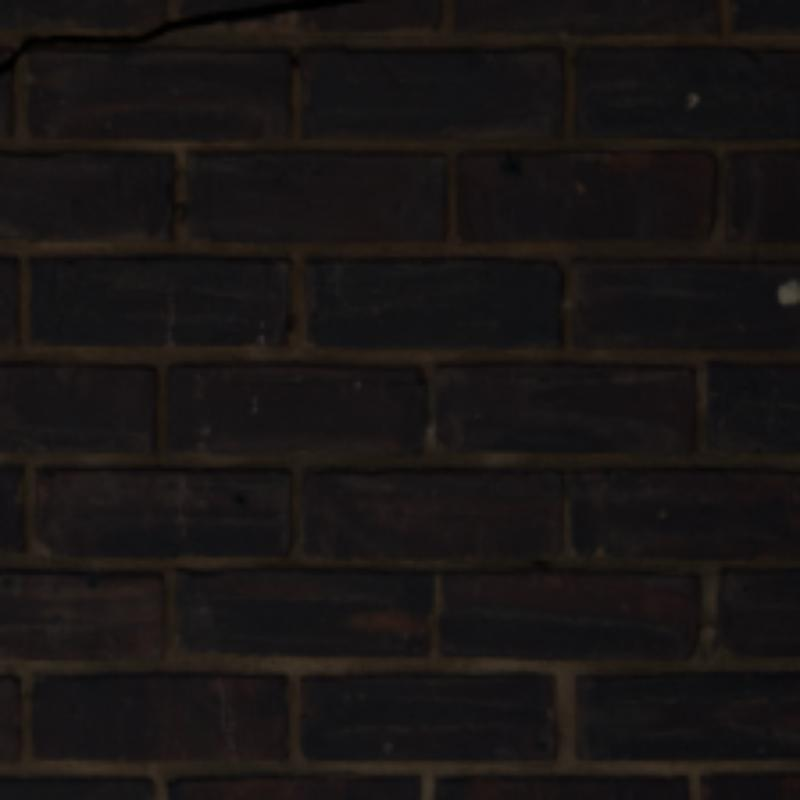pothole: (0, 0, 354, 71)
